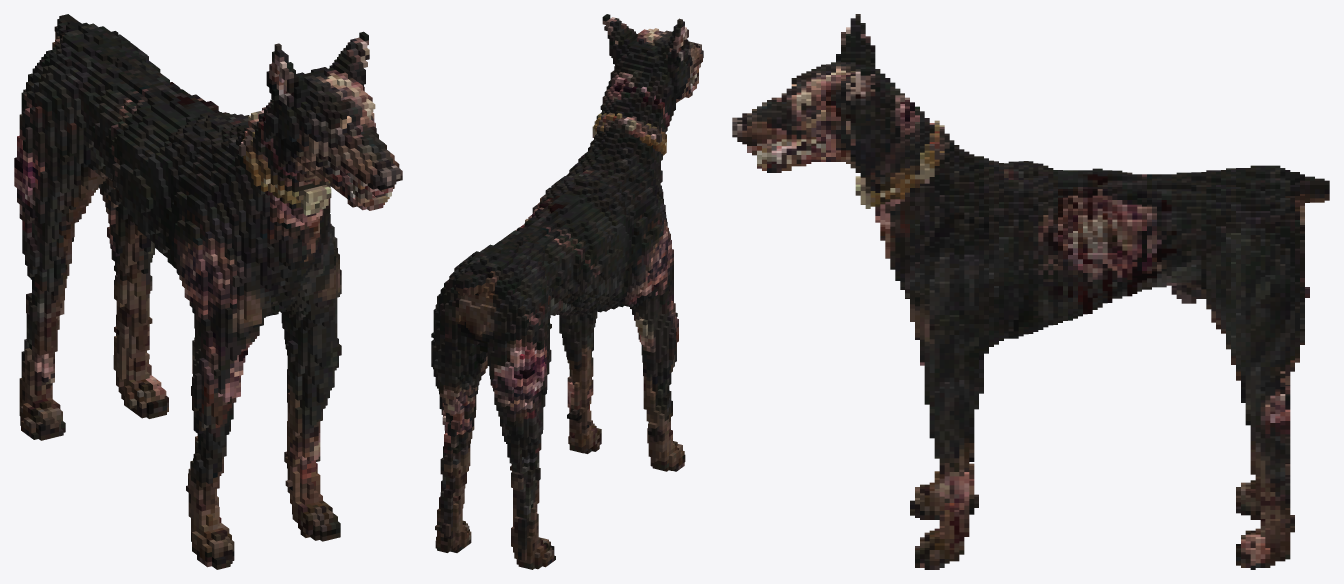
The model's file is Perro.obj.
3 views of the same model, side by side, from view 1: azimuth 30°, elevation 25°; view 2: azimuth 150°, elevation 25°; view 3: azimuth 270°, elevation 25° (orthographic). The views are drawn at different scales.
Visible parts, largest first — view 1: zombiedog_32x114x121; view 2: zombiedog_32x114x121; view 3: zombiedog_32x114x121.
Boxes of the visible parts, <box> form: zombiedog_32x114x121: <box>14,14,402,569</box>; zombiedog_32x114x121: <box>431,14,703,569</box>; zombiedog_32x114x121: <box>732,14,1329,569</box>.
Size of the model in its own units: 0.5158 by 1.84 by 1.95.
